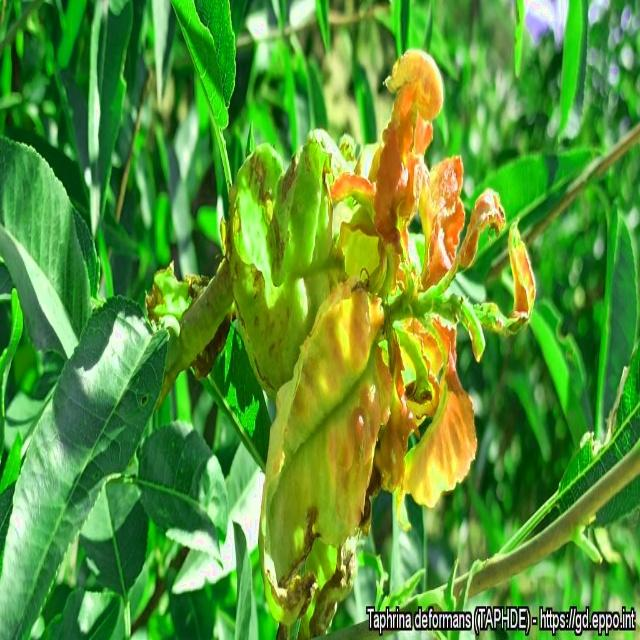leaf_curl: (249, 244, 427, 601), (340, 0, 493, 241)
